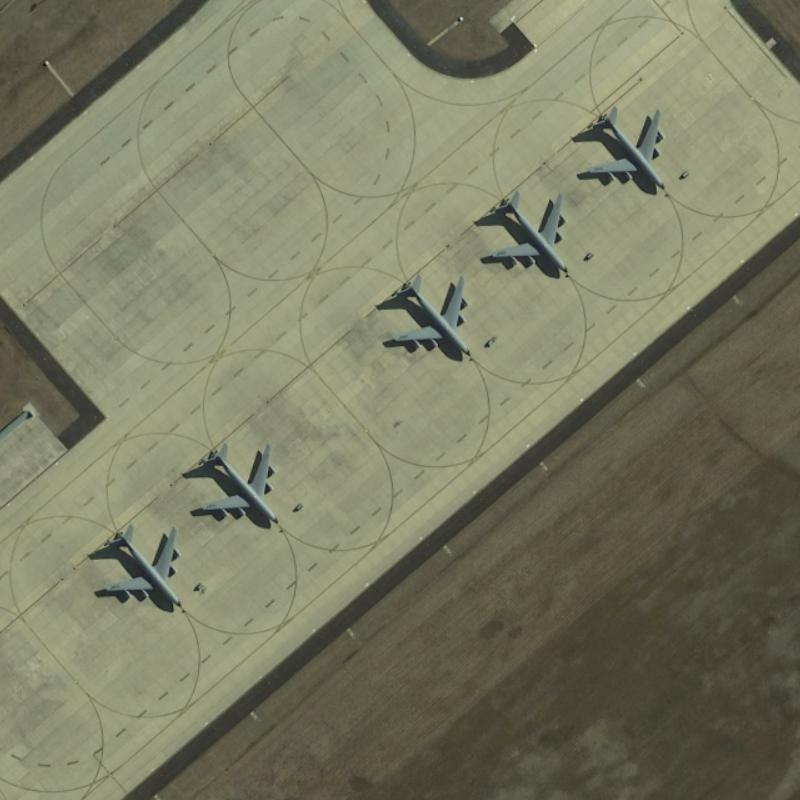A14: (180, 432, 286, 535), (375, 266, 477, 368), (89, 514, 192, 615), (477, 183, 576, 284), (573, 102, 673, 200)
